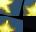star: (0, 0, 23, 16), (0, 16, 21, 32)
